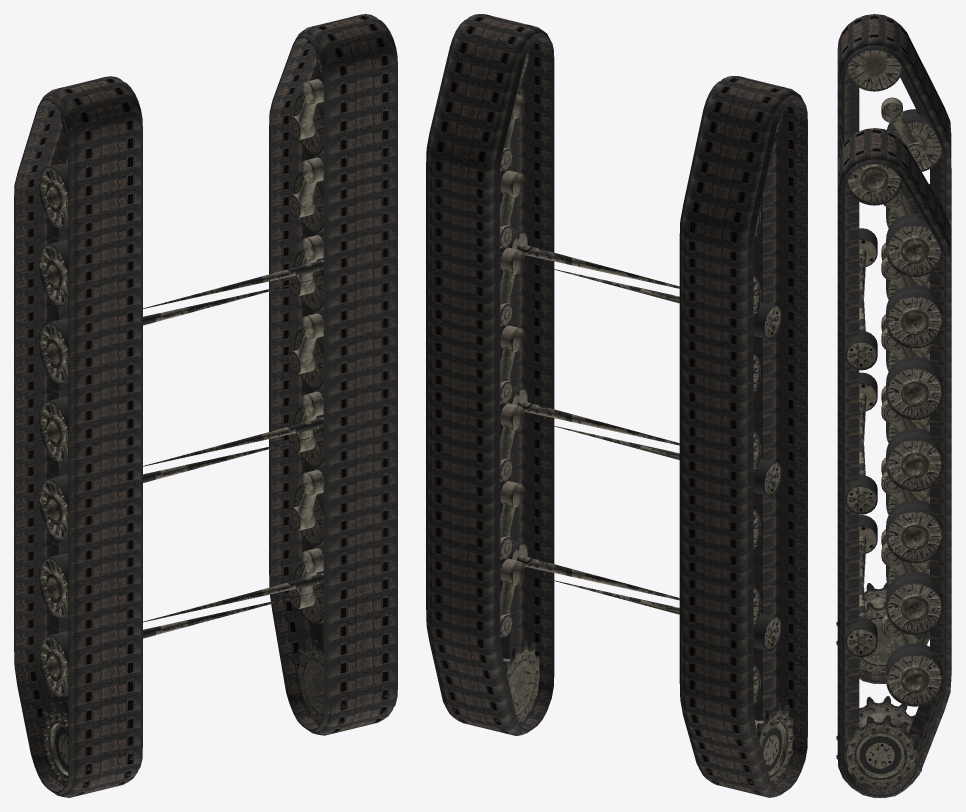
The model's file is Chassis.glb.
3 views of the same model, side by side, from view 1: azimuth 30°, elevation 25°; view 2: azimuth 150°, elevation 25°; view 3: azimuth 270°, elevation 25° (orthographic). The views are drawn at different scales.
Parts seen in each view (by area): view 1: set_1_group_0, set_0_group_0, set_3_group_0, set_2_group_0; view 2: set_1_group_0, set_0_group_0, set_3_group_0, set_2_group_0; view 3: set_3_group_0, set_0_group_0, set_2_group_0, set_1_group_0.
Part boxes in pixels (<box>): set_1_group_0: <box>14,76,142,797</box>; set_0_group_0: <box>269,14,397,735</box>; set_3_group_0: <box>143,51,387,733</box>; set_2_group_0: <box>39,113,314,795</box>; set_1_group_0: <box>679,76,807,797</box>; set_0_group_0: <box>426,14,554,735</box>; set_3_group_0: <box>453,50,679,732</box>; set_2_group_0: <box>545,112,794,794</box>; set_3_group_0: <box>836,164,943,788</box>; set_0_group_0: <box>837,128,951,797</box>; set_2_group_0: <box>836,50,942,674</box>; set_1_group_0: <box>837,14,951,683</box>.
Size of the model in its own units: 3.21 by 6.57 by 1.06.
4 materials, 4 textured.
